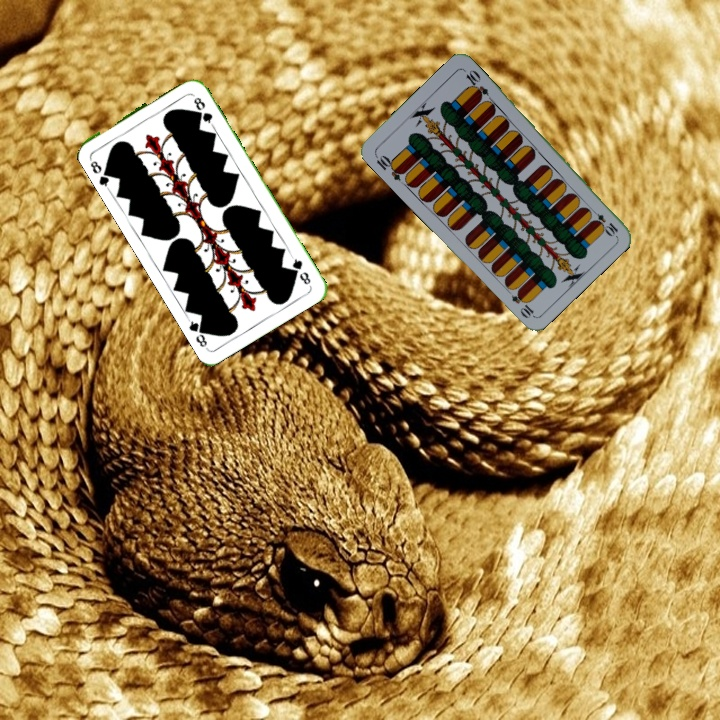E10: (586, 205, 621, 238), (371, 151, 407, 183)
G8: (85, 154, 115, 191), (287, 252, 313, 287)
